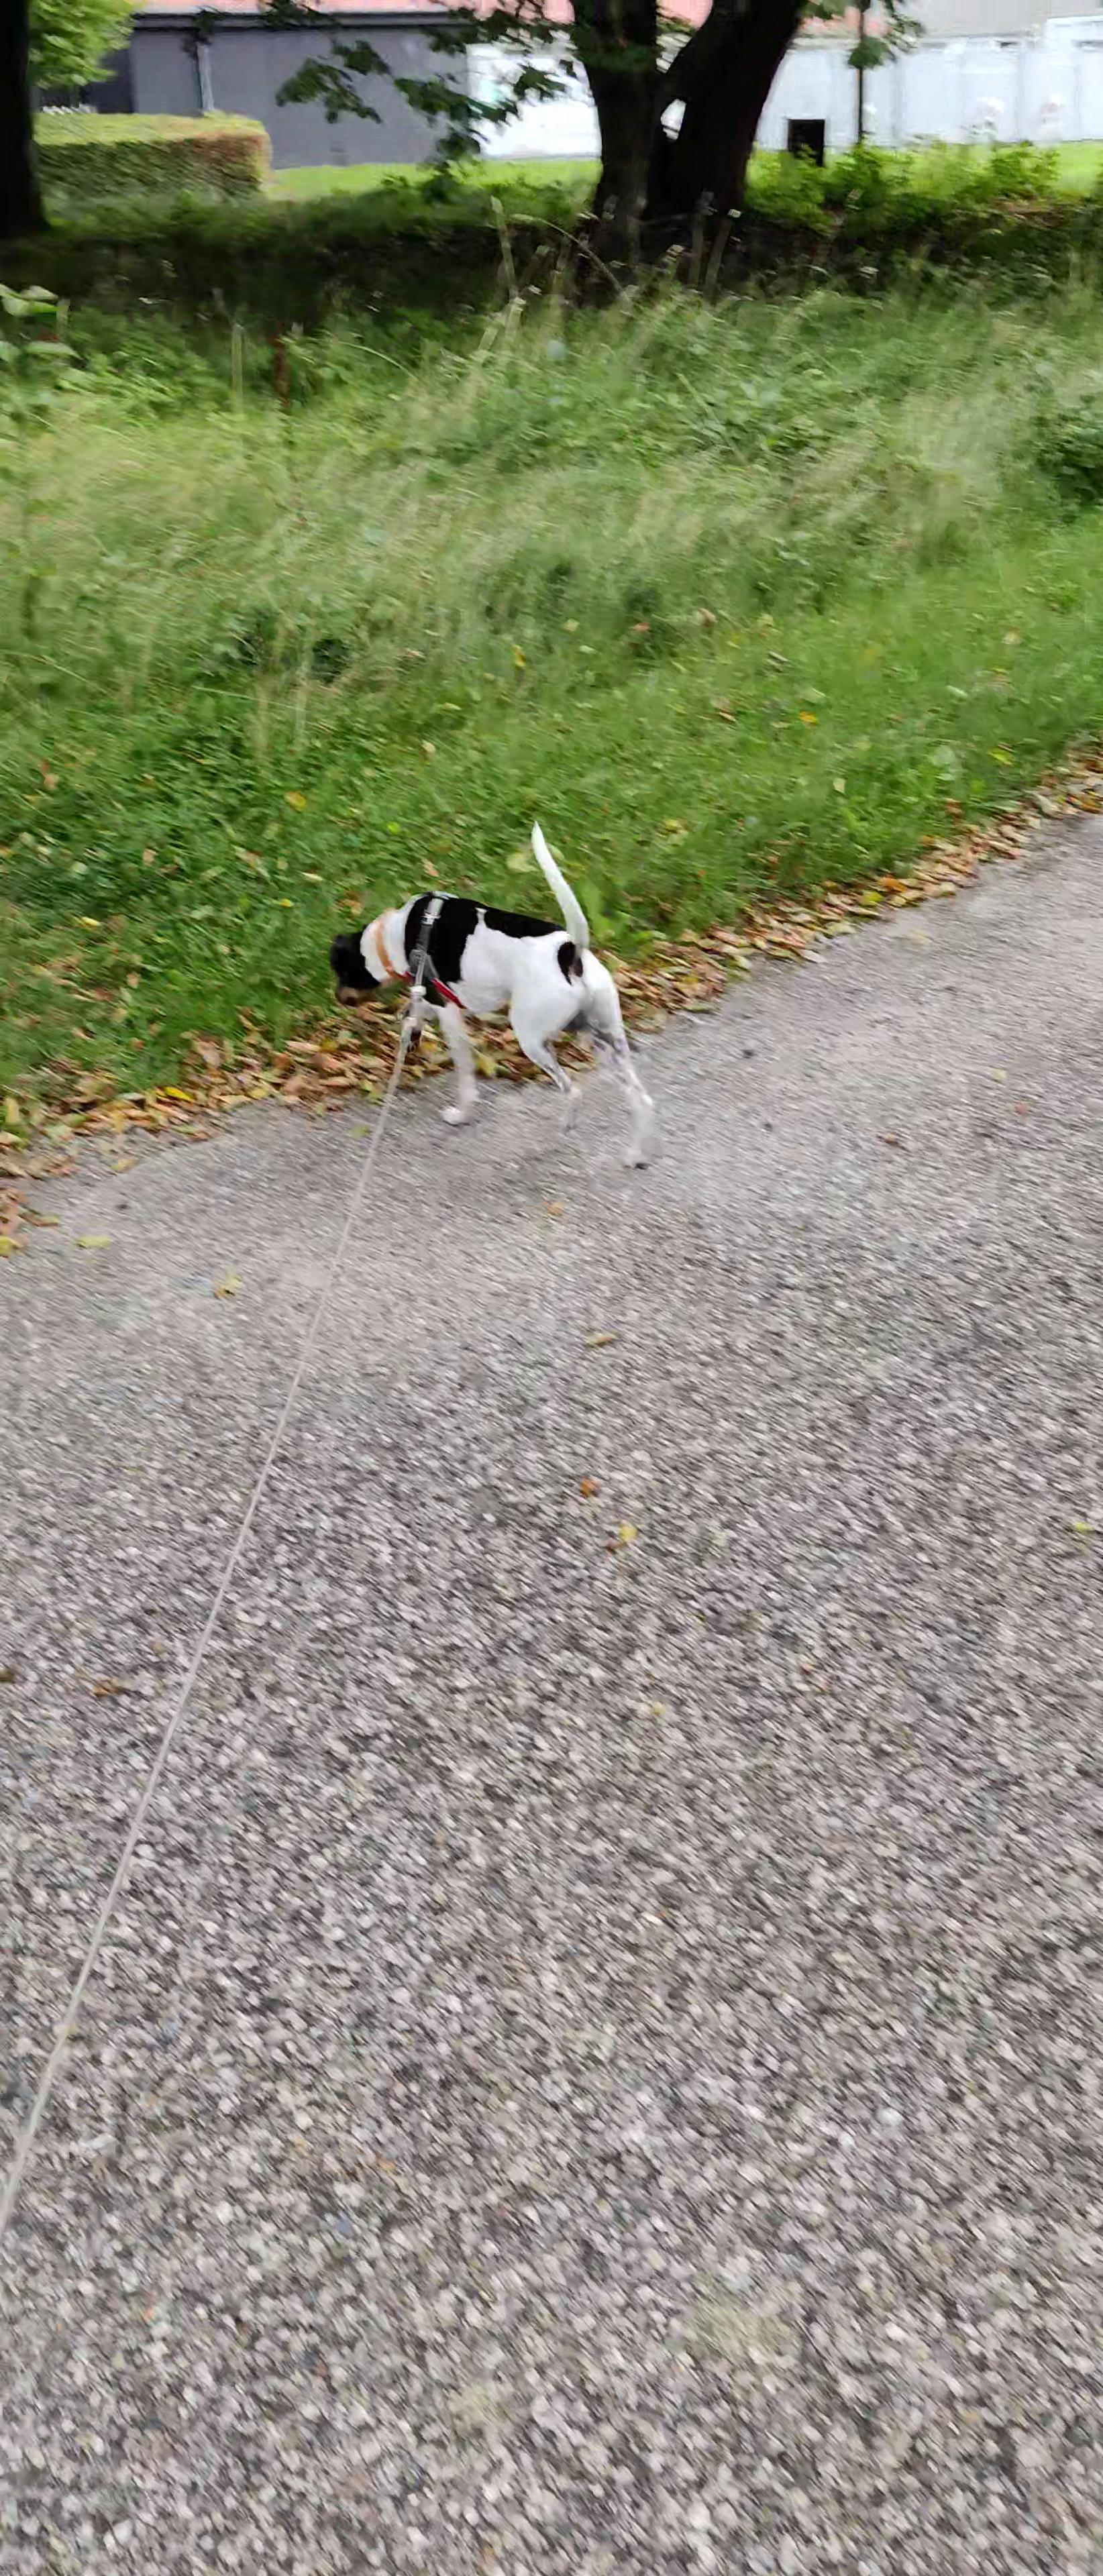Dog: (322, 815, 664, 1175)
